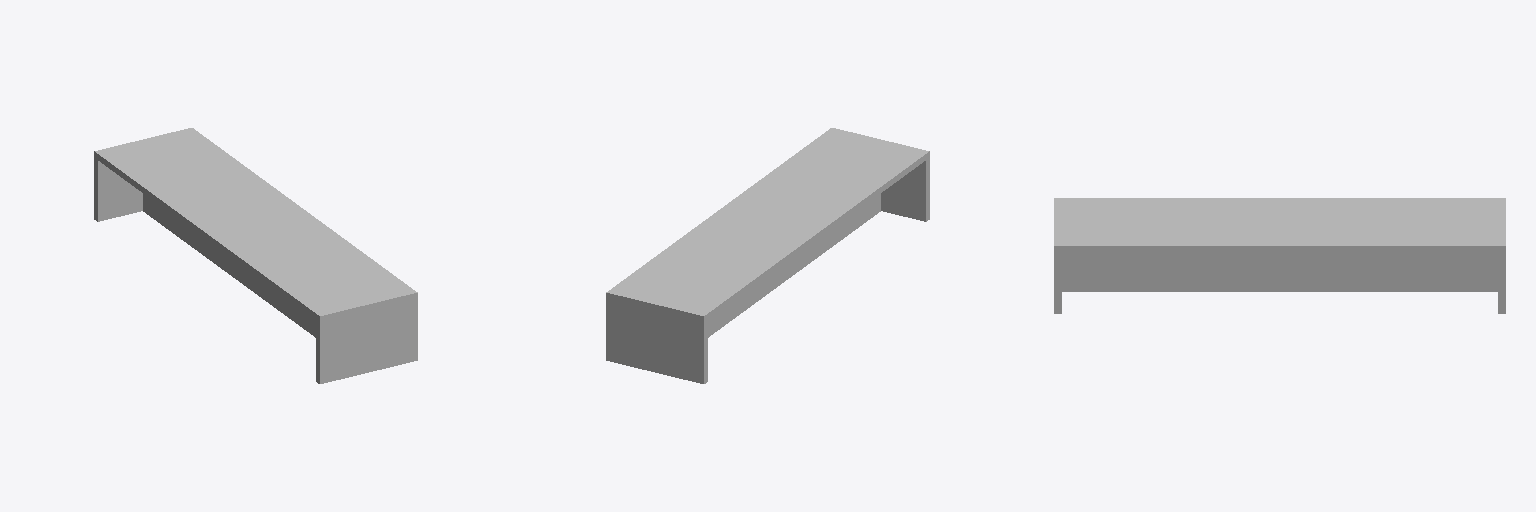
The model's file is meeting_table.obj.
3 views of the same model, side by side, from view 1: azimuth 30°, elevation 25°; view 2: azimuth 150°, elevation 25°; view 3: azimuth 270°, elevation 25° (orthographic).
Visible parts, largest first — view 1: Millwork_Table_16'_seated_height_Millwork_Table_16'_sea_d7c494e; view 2: Millwork_Table_16'_seated_height_Millwork_Table_16'_sea_d7c494e; view 3: Millwork_Table_16'_seated_height_Millwork_Table_16'_sea_d7c494e.
Part boxes in pixels (bbox=[...]): Millwork_Table_16'_seated_height_Millwork_Table_16'_sea_d7c494e: bbox=[94, 128, 417, 383]; Millwork_Table_16'_seated_height_Millwork_Table_16'_sea_d7c494e: bbox=[606, 128, 929, 383]; Millwork_Table_16'_seated_height_Millwork_Table_16'_sea_d7c494e: bbox=[1054, 198, 1505, 313].
Size of the model in its own units: 1.22 by 0.8128 by 4.88.